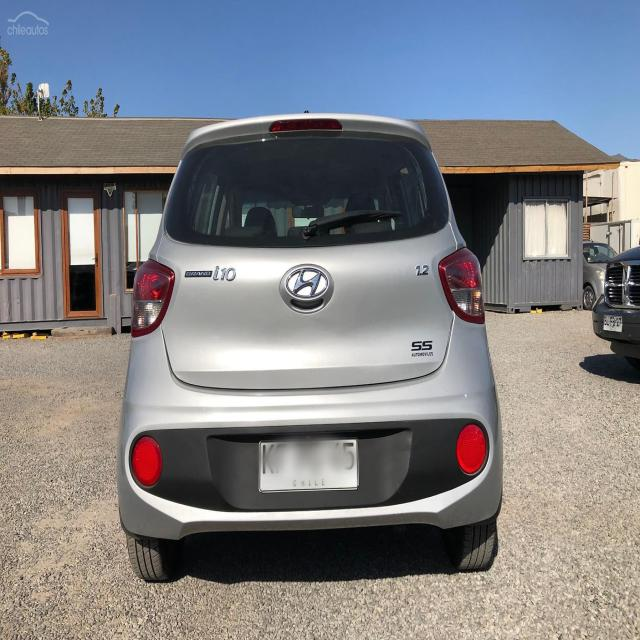patente: (257, 436, 359, 493), (602, 314, 623, 332)
